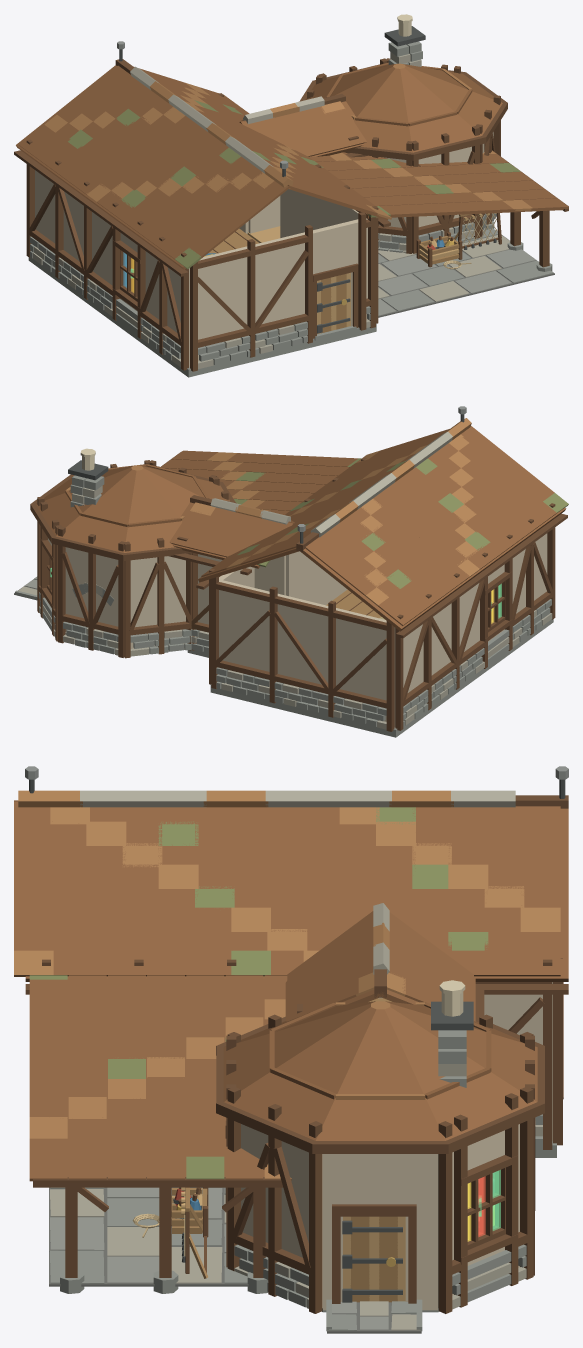
File: holm_survival_workyard_v3.glb
3 renders of one model, top to bottom at view 1: azimuth 30°, elevation 25°; view 2: azimuth 150°, elevation 25°; view 3: azimuth 270°, elevation 25°, orthographic. The views are drawn at different scales.
Visible parts, largest first — view 1: Roof_Workyard_Shingle_Umber, Static_Workyard_Oak_Dark, Static_Workyard_Warm_Limewash, Static_Workyard_Fieldstone, Roof_Workyard_Shingle_Sun, Static_Workyard_Fieldstone_Light, Roof_Workyard_Oak_Dark, Static_Workyard_Weathered_Cement, Roof_Workyard_Shingle_Moss, Roof_Workyard_Fieldstone_Light, Static_Workyard_Cement_Joints, trail_door_Workyard_Oak_Worn (+8 smaller); view 2: Roof_Workyard_Shingle_Umber, Static_Workyard_Oak_Dark, Static_Workyard_Warm_Limewash, Static_Workyard_Fieldstone, Roof_Workyard_Shingle_Sun, Roof_Workyard_Oak_Dark, Static_Workyard_Fieldstone_Light, Roof_Workyard_Fieldstone_Light, Roof_Workyard_Shingle_Moss, Roof_Workyard_Fieldstone, Static_Workyard_Oak_Worn, Roof_Workyard_Forged_Iron; view 3: Roof_Workyard_Shingle_Umber, Static_Workyard_Oak_Dark, Roof_Workyard_Shingle_Sun, Static_Workyard_Warm_Limewash, Roof_Workyard_Oak_Dark, Static_Workyard_Fieldstone, Roof_Workyard_Shingle_Moss, Roof_Workyard_Fieldstone_Light, Static_Workyard_Fieldstone_Light, Static_Workyard_Weathered_Cement, pond_door_Workyard_Oak_Worn, Static_Workyard_Cement_Joints (+7 smaller).
Boxes of the visible parts, bbox=[...] form: Roof_Workyard_Shingle_Umber: bbox=[16, 62, 568, 269]; Static_Workyard_Oak_Dark: bbox=[26, 58, 549, 371]; Static_Workyard_Warm_Limewash: bbox=[35, 132, 493, 366]; Static_Workyard_Fieldstone: bbox=[28, 213, 553, 377]; Roof_Workyard_Shingle_Sun: bbox=[44, 69, 532, 219]; Static_Workyard_Fieldstone_Light: bbox=[32, 227, 510, 368]; Roof_Workyard_Oak_Dark: bbox=[14, 59, 568, 276]; Static_Workyard_Weathered_Cement: bbox=[378, 249, 535, 315]; Roof_Workyard_Shingle_Moss: bbox=[68, 100, 520, 268]; Roof_Workyard_Fieldstone_Light: bbox=[130, 52, 421, 173]; Static_Workyard_Cement_Joints: bbox=[378, 234, 554, 317]; trail_door_Workyard_Oak_Worn: bbox=[321, 274, 346, 333]; Roof_Workyard_Shingle_Umber: bbox=[35, 426, 566, 631]; Static_Workyard_Oak_Dark: bbox=[37, 457, 555, 731]; Static_Workyard_Warm_Limewash: bbox=[48, 533, 547, 726]; Static_Workyard_Fieldstone: bbox=[15, 576, 553, 737]; Roof_Workyard_Shingle_Sun: bbox=[65, 418, 479, 605]; Roof_Workyard_Oak_Dark: bbox=[30, 452, 567, 638]; Static_Workyard_Fieldstone_Light: bbox=[18, 586, 552, 729]; Roof_Workyard_Fieldstone_Light: bbox=[72, 431, 452, 537]; Roof_Workyard_Shingle_Moss: bbox=[234, 458, 568, 588]; Roof_Workyard_Fieldstone: bbox=[70, 475, 104, 507]; Static_Workyard_Oak_Worn: bbox=[326, 589, 381, 618]; Roof_Workyard_Forged_Iron: bbox=[68, 414, 464, 543]; Roof_Workyard_Shingle_Umber: bbox=[14, 800, 568, 1182]; Static_Workyard_Oak_Dark: bbox=[42, 958, 563, 1313]; Roof_Workyard_Shingle_Sun: bbox=[14, 790, 560, 1180]; Static_Workyard_Warm_Limewash: bbox=[241, 982, 552, 1310]; Roof_Workyard_Oak_Dark: bbox=[25, 795, 568, 1187]; Static_Workyard_Fieldstone: bbox=[49, 1114, 556, 1331]; Roof_Workyard_Shingle_Moss: bbox=[29, 807, 488, 1179]; Roof_Workyard_Fieldstone_Light: bbox=[80, 790, 515, 1076]; Static_Workyard_Fieldstone_Light: bbox=[49, 1125, 542, 1330]; Static_Workyard_Weathered_Cement: bbox=[49, 1187, 388, 1330]; pond_door_Workyard_Oak_Worn: bbox=[350, 1216, 397, 1302]; Static_Workyard_Cement_Joints: bbox=[49, 1187, 421, 1333].
Size of the model in its own units: 19.78 by 8.31 by 13.29.
